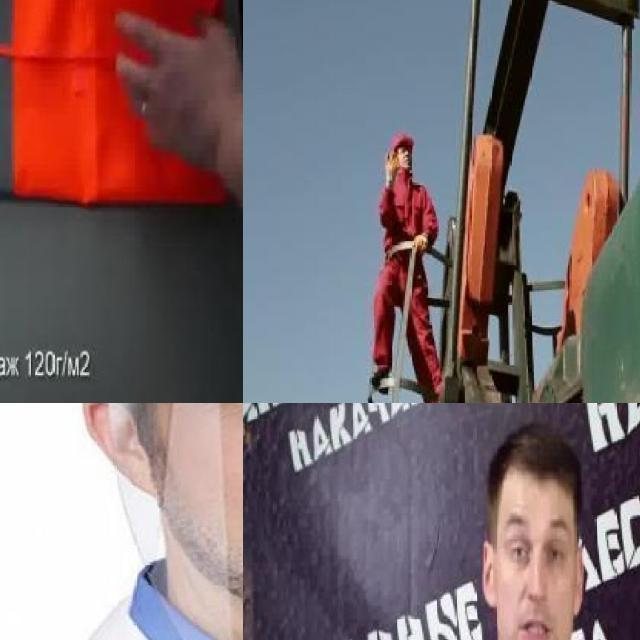apron: (410, 232, 430, 258), (386, 152, 398, 180)
